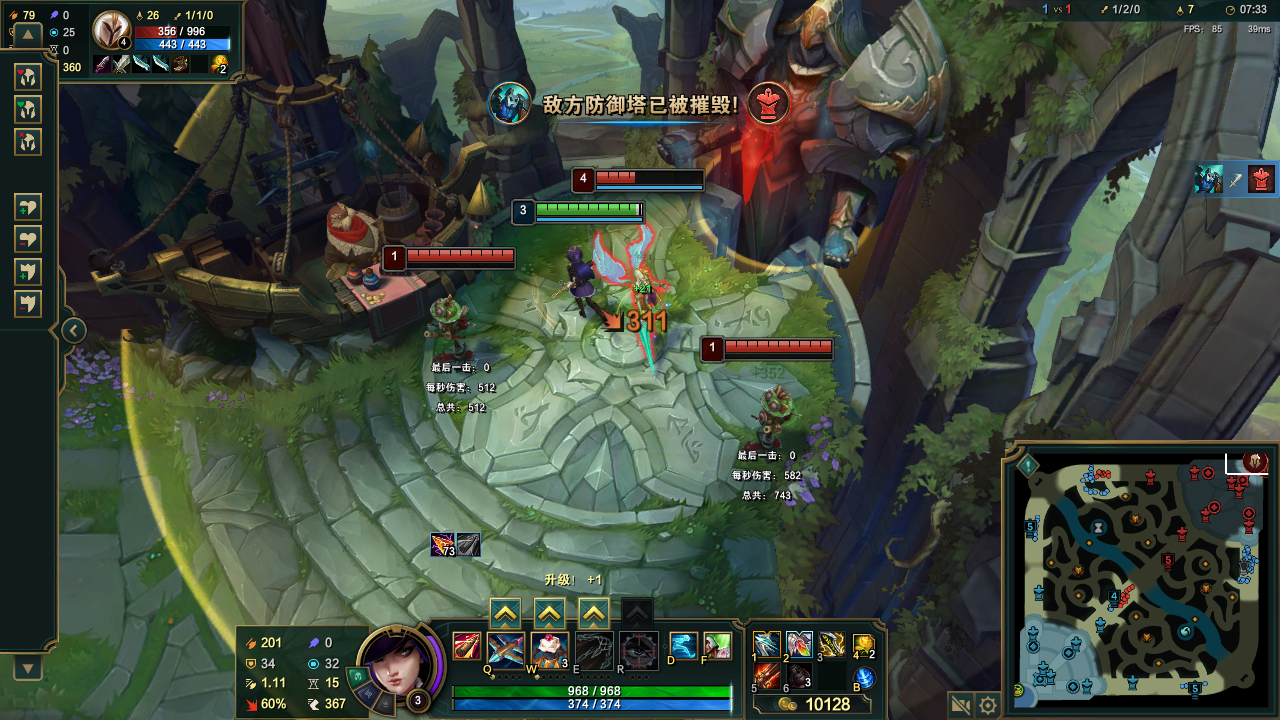DFYX: (599, 170, 703, 186), (727, 341, 835, 352), (407, 249, 514, 260)
